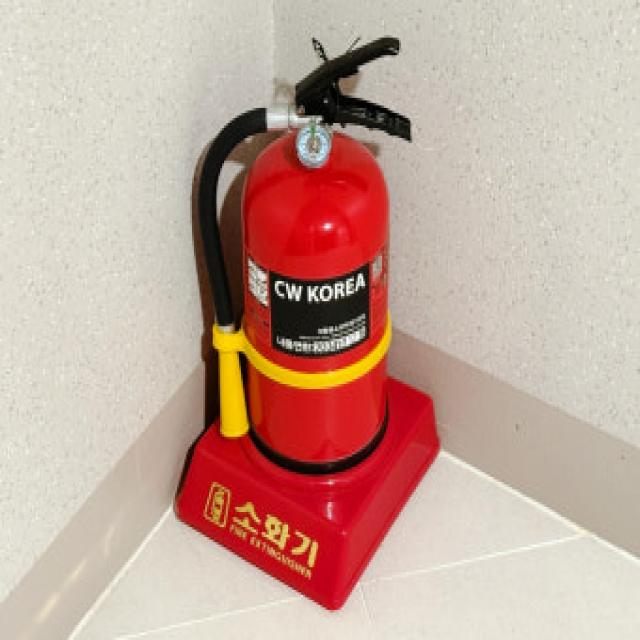pressure gauge: (296, 123, 331, 168)
